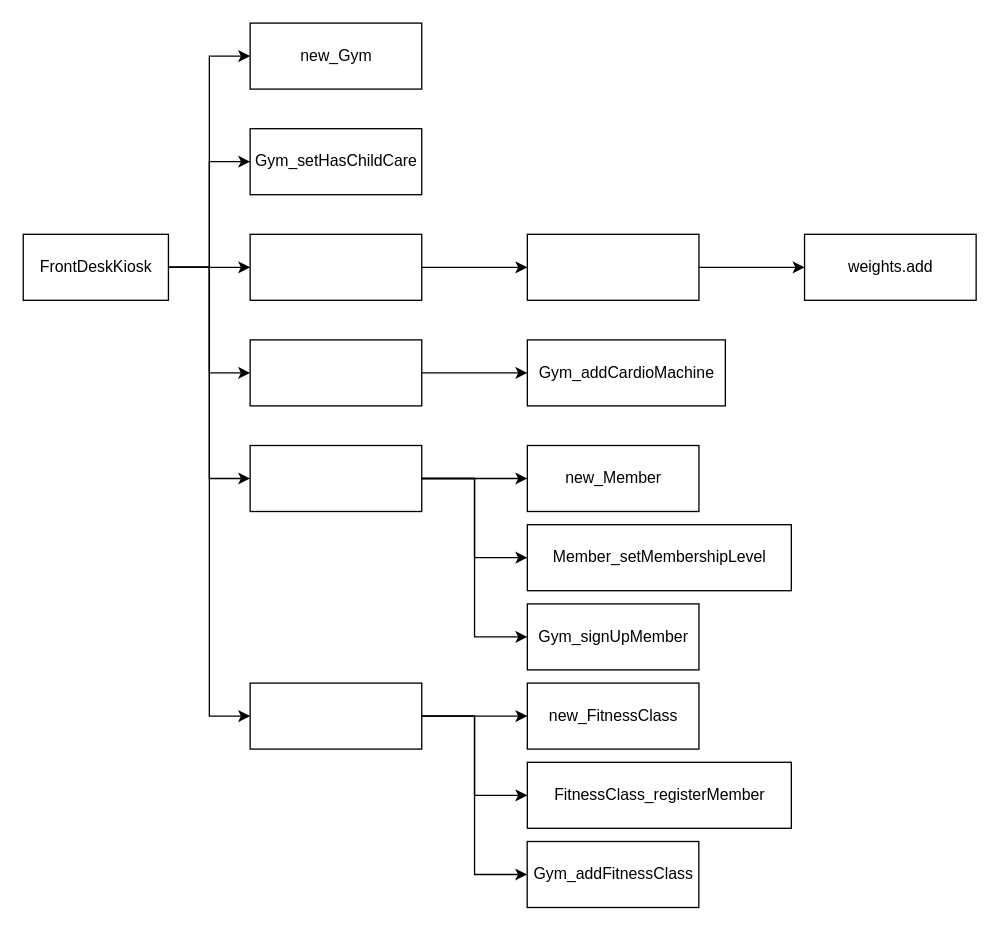
Some shapes in this 999 by 931 pixel diagram are drawn without their labels. The shapes that lost their labels are listed below. From the top down, each one's centre as x and y in pixels, then its label:
point 335,266: loadWeights
point 612,266: Gym_addWeight
point 335,372: loadCardioMachines
point 335,478: loadMembers
point 335,715: loadClasses
